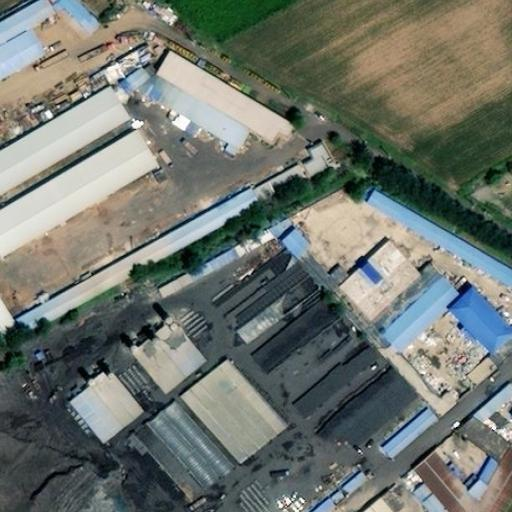building: (15, 200, 262, 356), (302, 269, 462, 432), (0, 147, 157, 270), (366, 200, 512, 297), (342, 257, 463, 367), (158, 65, 295, 160), (278, 333, 391, 443), (184, 373, 286, 479), (138, 414, 236, 512), (220, 262, 324, 354), (415, 431, 512, 512), (134, 333, 210, 409), (73, 384, 147, 459), (384, 420, 445, 479), (0, 8, 58, 64), (97, 38, 151, 82), (469, 353, 512, 399), (58, 1, 100, 45), (261, 180, 305, 213), (152, 265, 195, 298), (115, 58, 152, 93), (335, 465, 370, 497), (305, 156, 336, 192), (284, 244, 316, 277), (122, 81, 154, 111)
